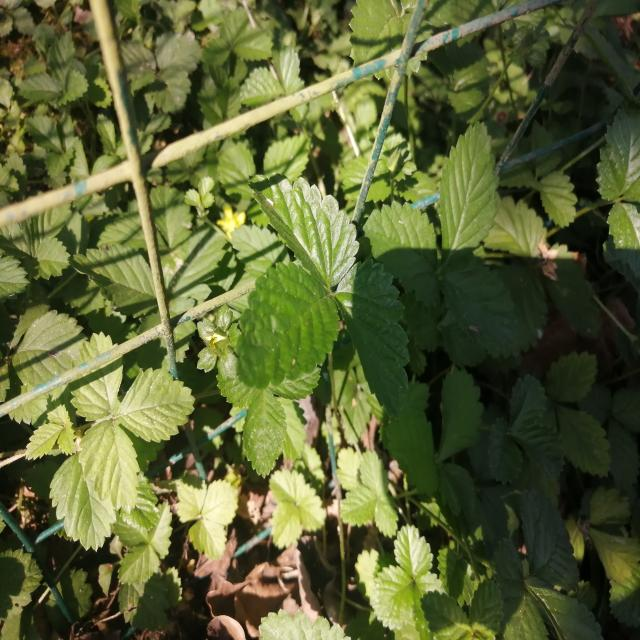Mock_strawberry: (230, 168, 422, 411), (39, 344, 203, 536)
